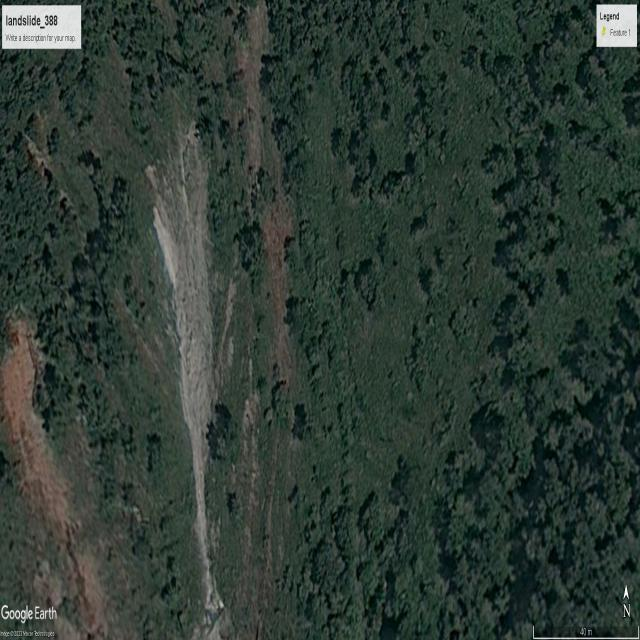Landslide: (159, 151, 230, 620)
